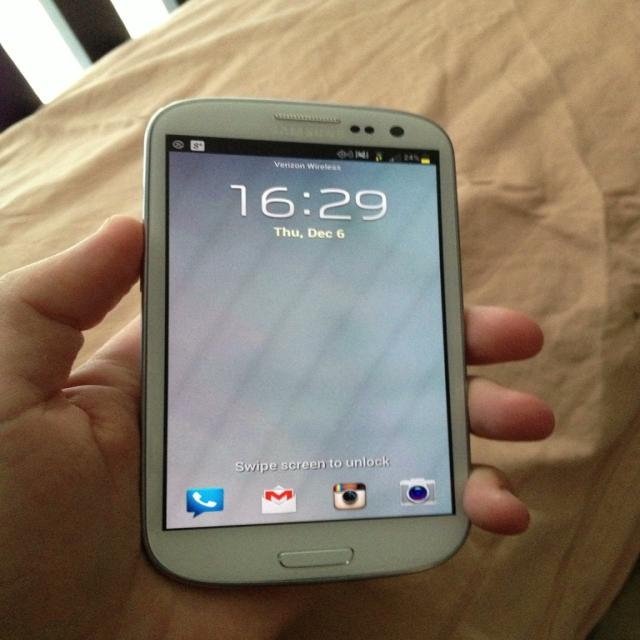Mobile-phone: (138, 95, 476, 588)
